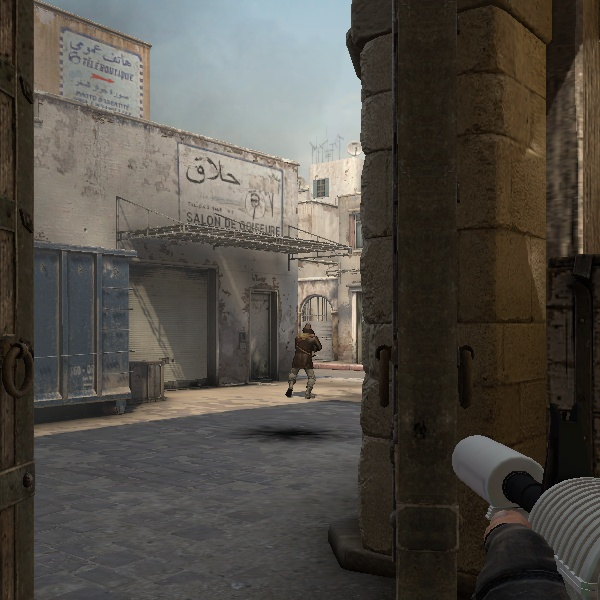t_body: (284, 319, 327, 401)
t_head: (299, 320, 317, 336)
